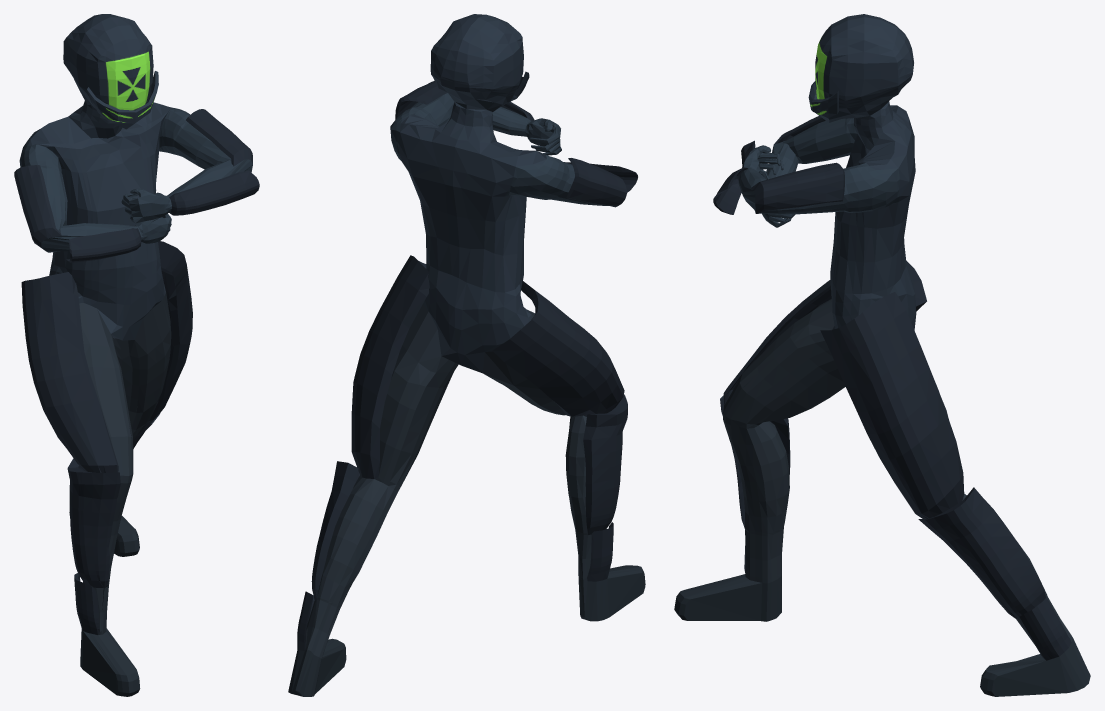
Rendered from Bastion_Hit_Recover_000019.obj.
3 renders of one model, left to right at view 1: azimuth 30°, elevation 25°; view 2: azimuth 150°, elevation 25°; view 3: azimuth 270°, elevation 25°, orthographic. The views are drawn at different scales.
Parts seen in each view (by area): view 1: Cube.002; view 2: Cube.002; view 3: Cube.002.
Part boxes in pixels (x1=…): Cube.002: x1=14, y1=14, x2=259, y2=696; Cube.002: x1=288, y1=14, x2=645, y2=696; Cube.002: x1=674, y1=14, x2=1090, y2=696.
Bounding box in the file's own units: 1.31 × 3.59 × 2.14.
